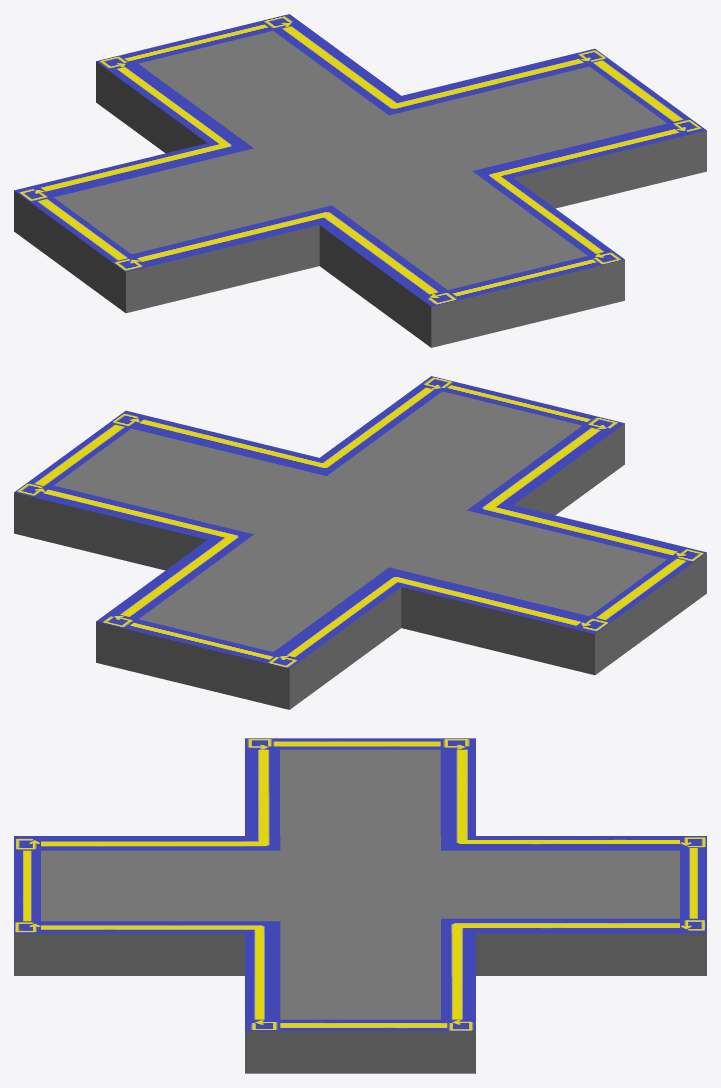
File: Cross_TypeObj.gltf
The picture shows the model from 3 angles, top to bottom: view 1: azimuth 30°, elevation 25°; view 2: azimuth 150°, elevation 25°; view 3: azimuth 270°, elevation 25°; orthographic projection. The views are drawn at different scales.
Parts seen in each view (by area): view 1: Cube.001, Cube.003, Cube.005, Cube.006, Cube.004; view 2: Cube.006, Cube.003, Cube.005, Cube.001, Cube.004; view 3: Cube.005, Cube.001, Cube.006, Cube.003, Cube.004.
Part boxes in pixels (bbox=[...]): Cube.001: bbox=[319, 178, 624, 347]; Cube.003: bbox=[14, 143, 319, 313]; Cube.005: bbox=[402, 48, 706, 208]; Cube.006: bbox=[96, 14, 400, 153]; Cube.004: bbox=[208, 96, 512, 224]; Cube.006: bbox=[96, 540, 401, 709]; Cube.003: bbox=[401, 505, 706, 675]; Cube.005: bbox=[14, 410, 318, 570]; Cube.001: bbox=[320, 376, 624, 515]; Cube.004: bbox=[208, 458, 512, 586]; Cube.005: bbox=[245, 933, 475, 1073]; Cube.001: bbox=[14, 836, 244, 975]; Cube.006: bbox=[476, 836, 706, 975]; Cube.003: bbox=[245, 738, 475, 835]; Cube.004: bbox=[245, 836, 475, 933].
Size of the model in its own units: 10.5 by 0.71 by 10.5.
Materials: 1 (1 with a texture image).
